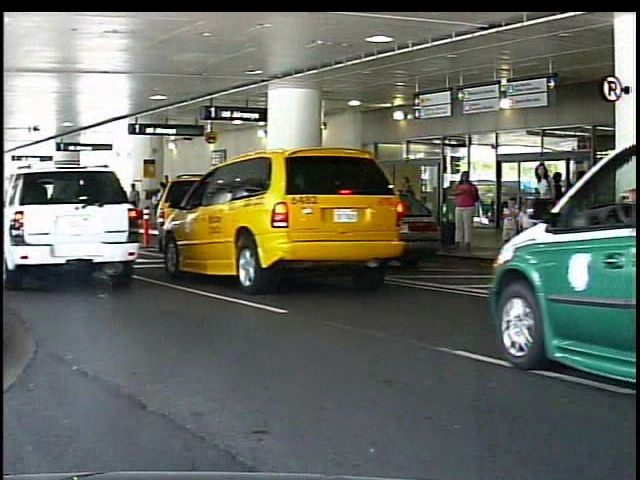person: (535, 161, 563, 263), (452, 168, 480, 253), (390, 172, 420, 238), (550, 172, 571, 242), (507, 197, 527, 253), (521, 202, 540, 255), (130, 180, 147, 230)
